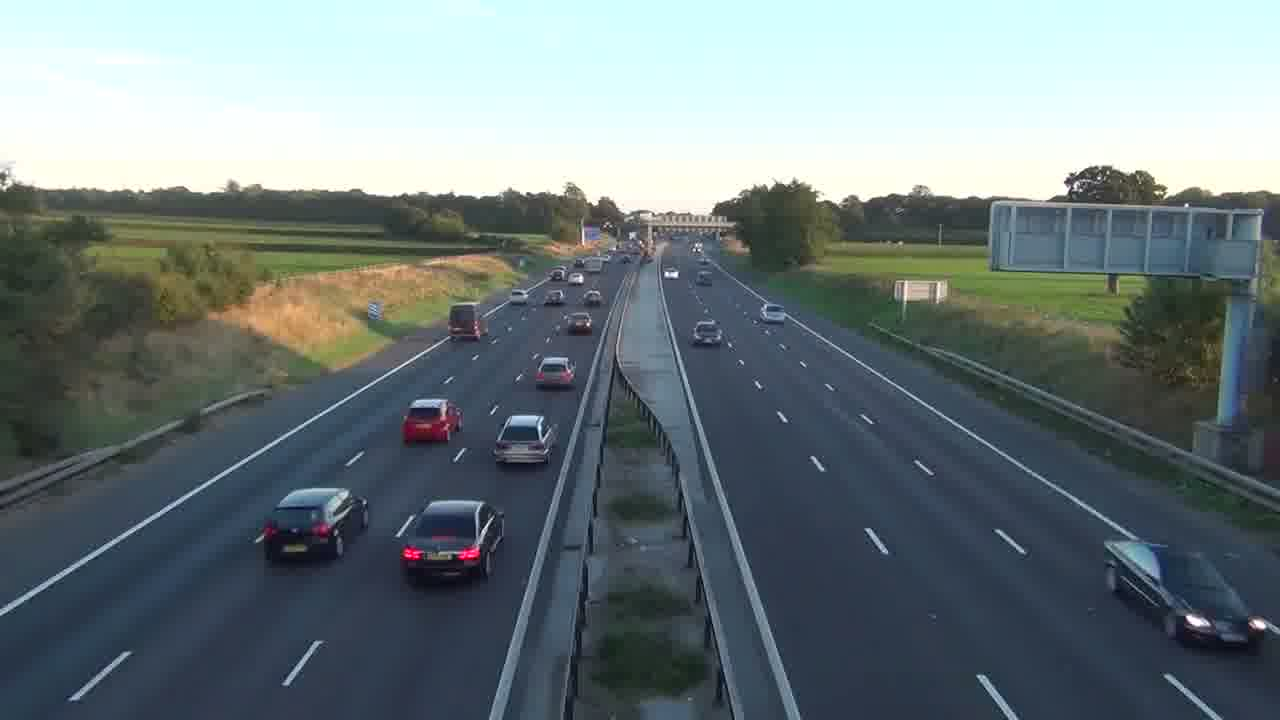car: (394, 498, 507, 583), (254, 486, 370, 563), (492, 413, 558, 466), (402, 397, 464, 444), (534, 355, 576, 389), (691, 320, 722, 347), (562, 311, 593, 335), (544, 288, 566, 307)
truck: (1102, 538, 1263, 649), (448, 302, 485, 341)
